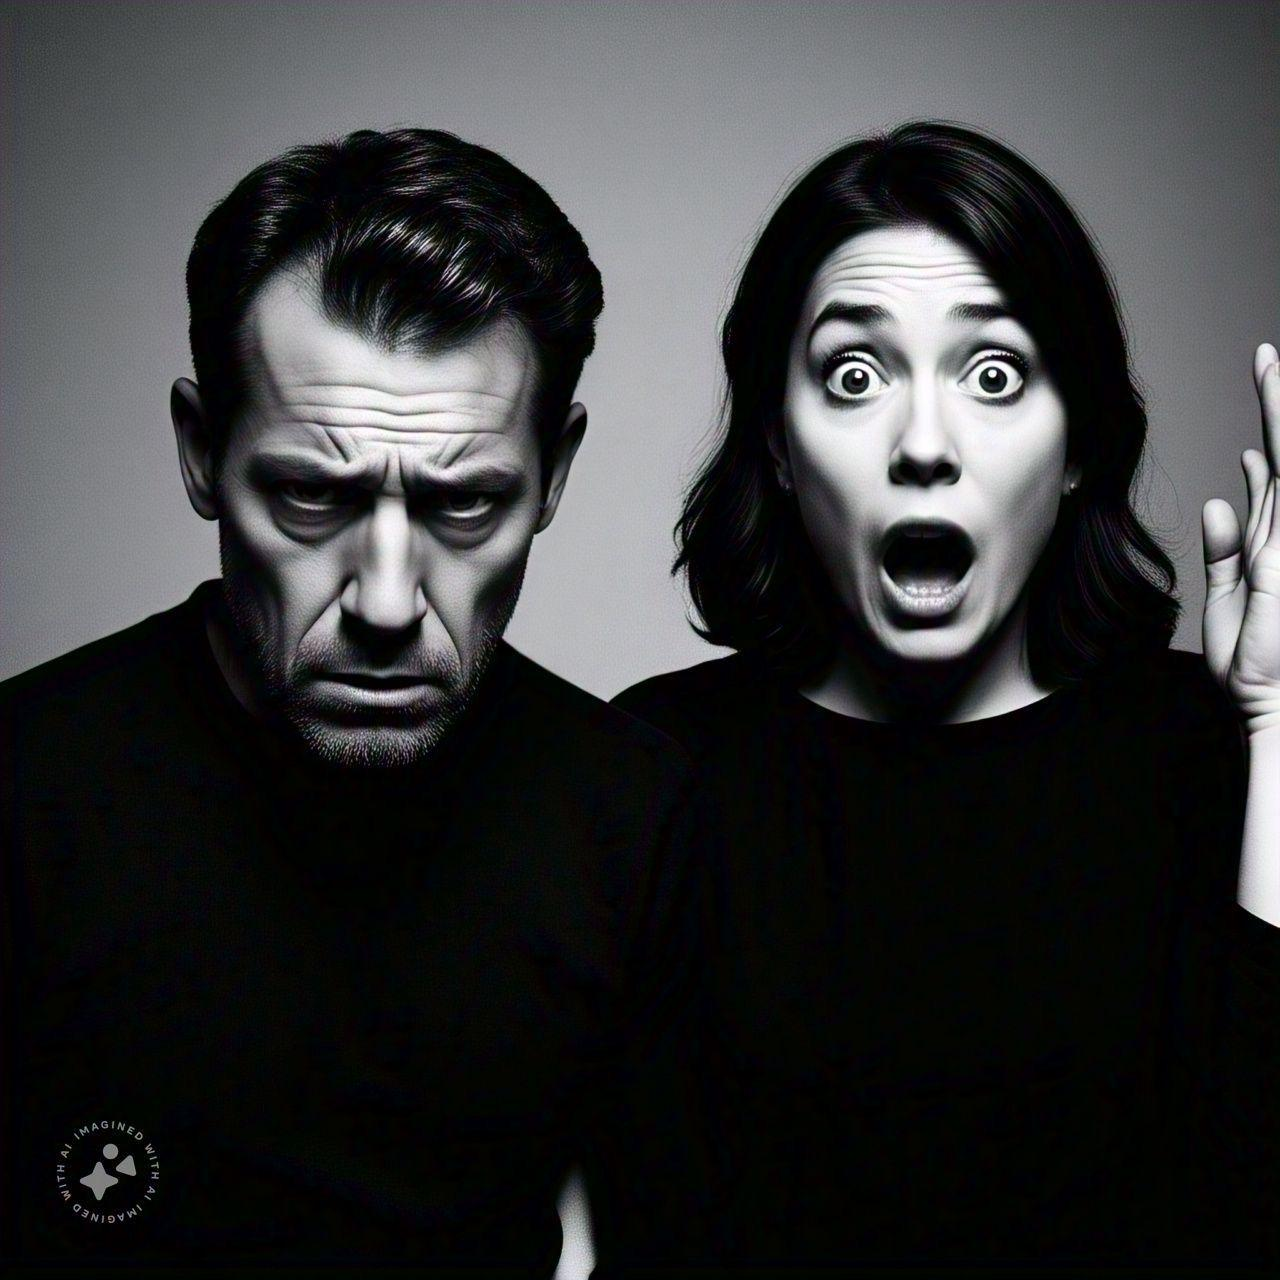surpreso: (745, 170, 1094, 694)
triste: (210, 190, 561, 782)
